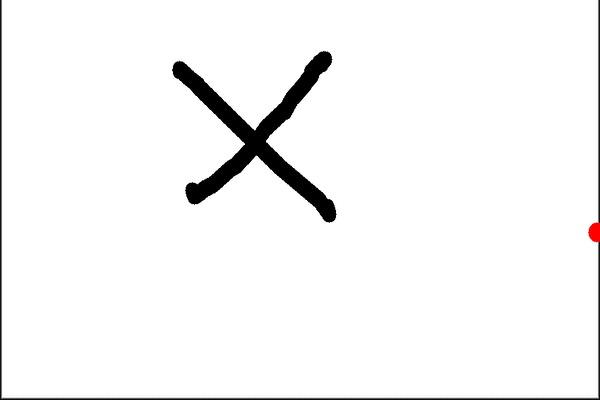Z: (142, 37, 349, 239)
